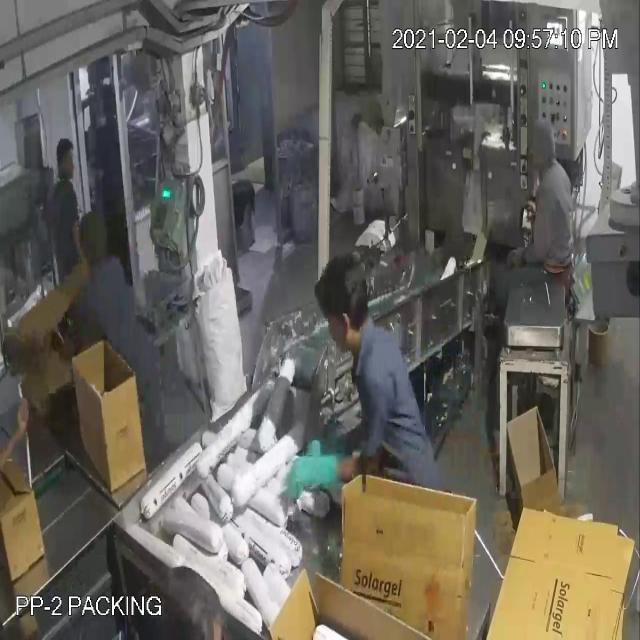gloves: (283, 438, 385, 510)
no-gloves: (0, 382, 32, 476), (68, 200, 95, 287)
